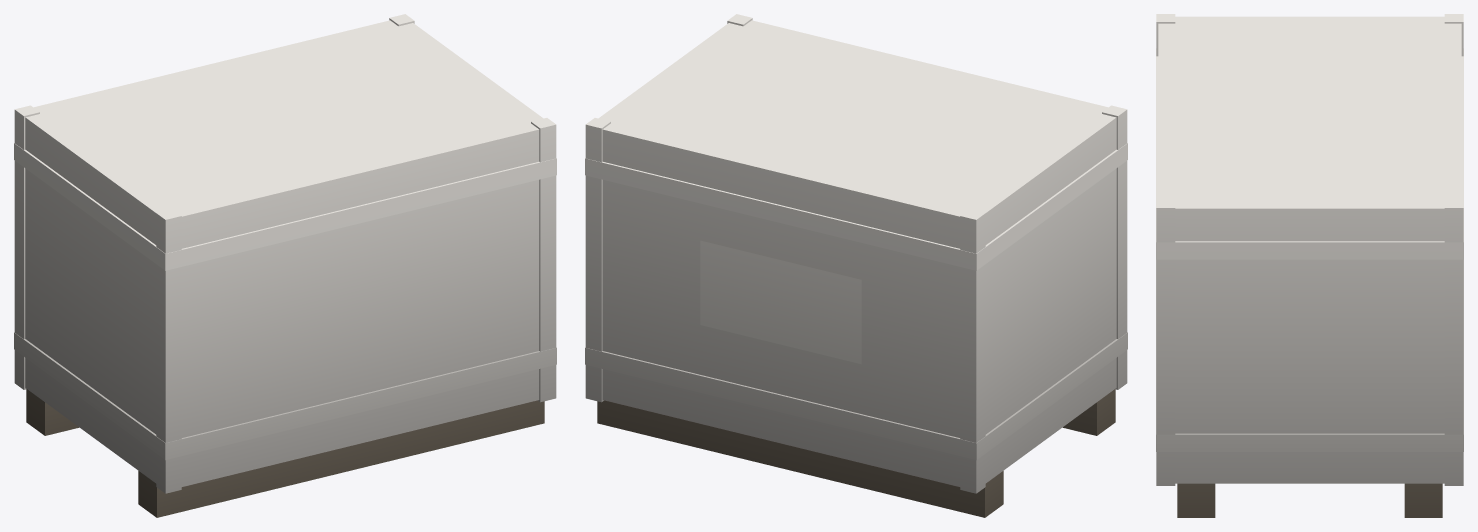
File: crate_large.glb
The picture shows the model from 3 angles, left to right: view 1: azimuth 30°, elevation 25°; view 2: azimuth 150°, elevation 25°; view 3: azimuth 270°, elevation 25°; orthographic projection.
Parts seen in each view (by area): view 1: crate_large_LOD0; view 2: crate_large_LOD0; view 3: crate_large_LOD0.
Part boxes in pixels (x1=…): crate_large_LOD0: x1=14, y1=14, x2=556, y2=517; crate_large_LOD0: x1=585, y1=14, x2=1127, y2=517; crate_large_LOD0: x1=1156, y1=14, x2=1463, y2=517.
Size of what is drawn, in the model's own units: 1.21 by 0.905 by 0.812.
